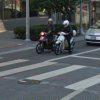Motorcycle: (28, 25, 78, 56)
